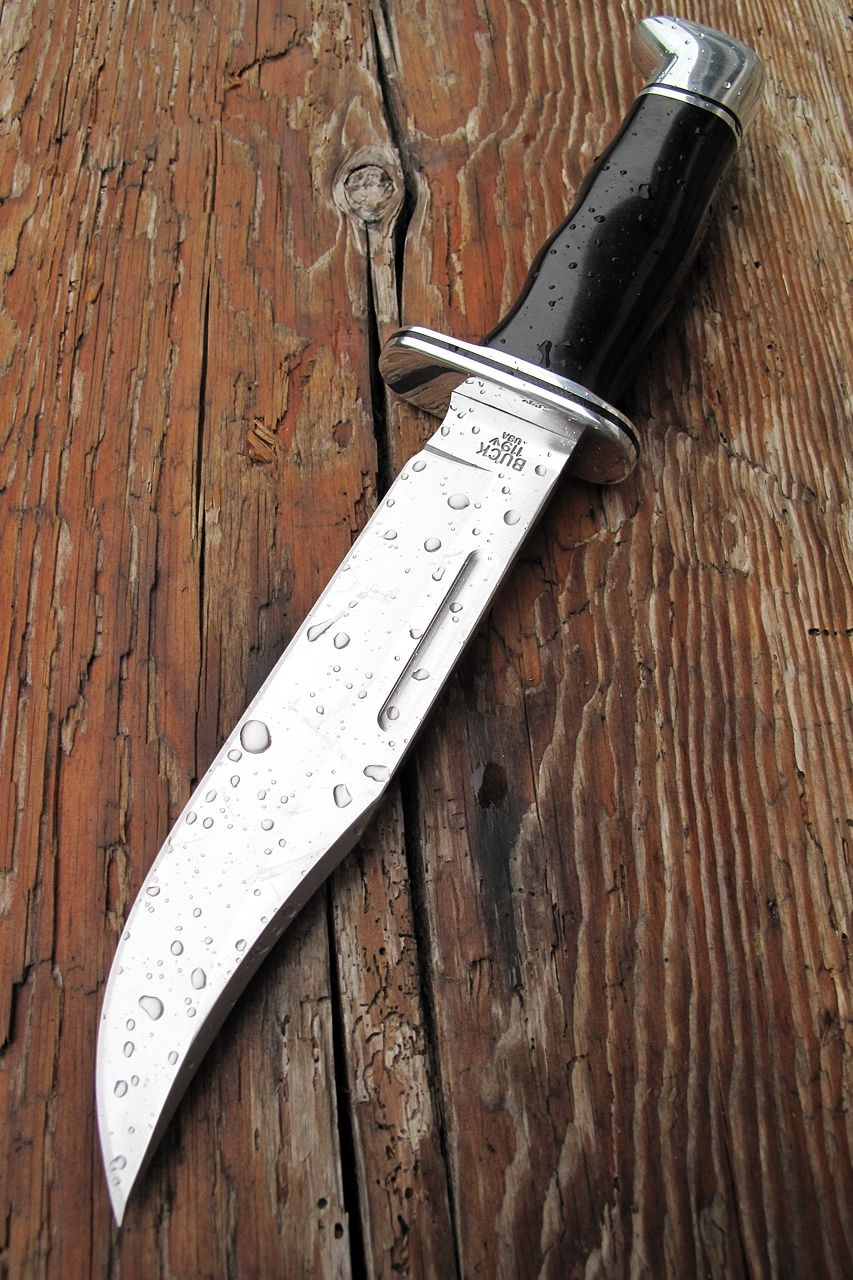knife: (69, 11, 784, 1239)
